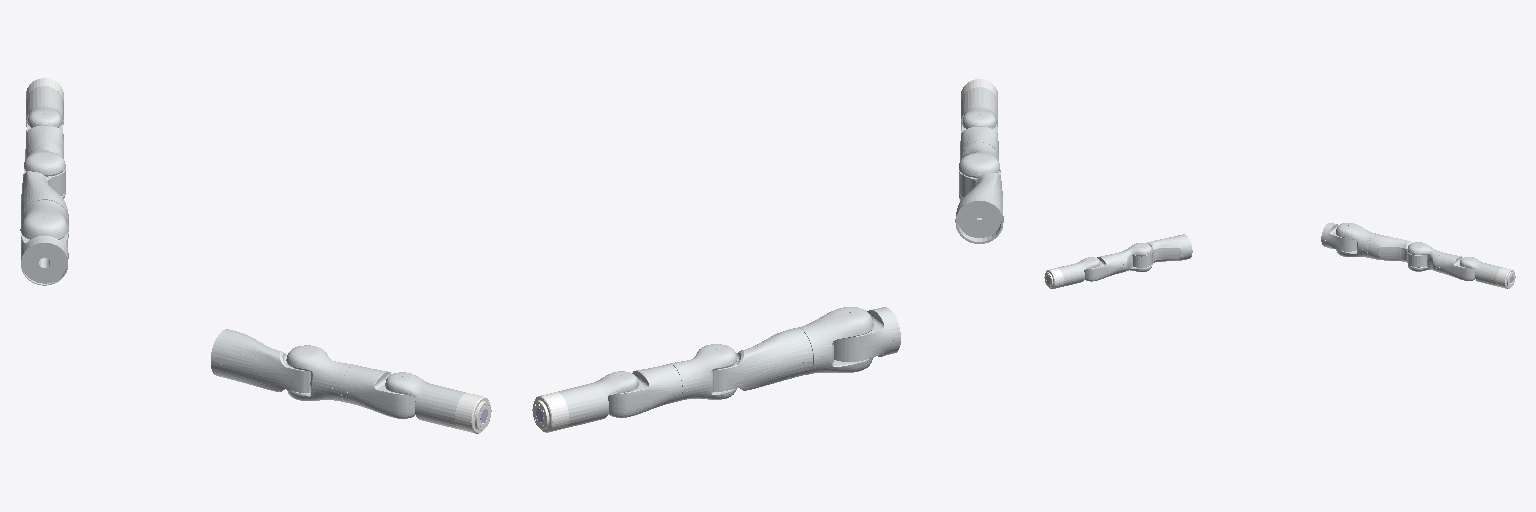
--- Facts derived from the render (not from the file) ---
The picture shows the robot from 3 angles, left to right: view 1: azimuth 30°, elevation 25°; view 2: azimuth 150°, elevation 25°; view 3: azimuth 270°, elevation 25°; orthographic projection.
Robot: qyh_dual_arms_description — 22 links, 21 joints (15 revolute, 6 fixed); root link base_link; default pose: every joint at zero.
Links seen in each view (by area): view 1: r3, r5, r6, r4, l1, l2, l6, l3, l4, r7, l5; view 2: l3, r3, l2, l5, l6, l4, l1, r6, r4, l7, r5; view 3: r3, l3, l2, r5, l5, l6, r6, l1, l4, r4.
Boxes of the visible links, x1,y1,x2,y2 form: r3: (211, 329, 310, 392); r5: (341, 365, 415, 418); r6: (385, 372, 465, 428); r4: (286, 345, 352, 402); l1: (21, 232, 68, 285); l2: (20, 200, 68, 239); l6: (26, 86, 63, 127); l3: (21, 168, 68, 218); l4: (24, 141, 65, 198); r7: (455, 393, 491, 433); l5: (25, 123, 63, 156); l3: (713, 328, 812, 391); r3: (955, 171, 1003, 243); l2: (798, 307, 873, 374); l5: (608, 364, 682, 417); l6: (558, 371, 638, 427); l4: (670, 344, 736, 400); l1: (833, 307, 900, 361); r6: (961, 87, 997, 128); r4: (959, 142, 1000, 200); l7: (532, 392, 568, 432); r5: (960, 124, 998, 155); r3: (1133, 234, 1192, 267); l3: (1367, 234, 1426, 267); l2: (1336, 223, 1375, 257); r5: (1084, 253, 1123, 281); l5: (1436, 253, 1475, 280); l6: (1460, 257, 1502, 286); r6: (1058, 257, 1099, 286); l1: (1321, 223, 1356, 251); l4: (1407, 242, 1442, 271); r4: (1118, 243, 1152, 272).
Bounding box of the posed robot: 0.5078 × 1.92 × 0.1293 m (x, y, z).
Meshes: 16 distinct files referenced, 14 mesh visuals loaded (14 binary STL); not drawn: 2 (reference not matched to a file when rendering).

URDF robot description (qyh_dual_arms_description):
<?xml version="1.0" encoding="utf-8"?>
<!-- This URDF was automatically created by SolidWorks to URDF Exporter! Originally created by Stephen Brawner ([email redacted]) 
     Commit Version: 1.6.0-4-g7f85cfe  Build Version: 1.6.7995.38578
     For more information, please see http://wiki.ros.org/sw_urdf_exporter -->
<robot
  name="qyh_dual_arms_description">
  <link
    name="base_link">
    <inertial>
      <origin
        xyz="-3.60060590956501E-06 -9.07607322631065E-15 0.203423267844838"
        rpy="0 0 0" />
      <mass
        value="6.05020988125157" />
      <inertia
        ixx="0.0476293935351954"
        ixy="-7.11699483719659E-16"
        ixz="4.71369585177237E-06"
        iyy="0.0220440369542326"
        iyz="-2.22463099675456E-13"
        izz="0.0350085747713705" />
    </inertial>
    <!-- Visual removed: base platform hidden in RViz -->
    <collision>
      <origin
        xyz="0 0 0"
        rpy="0 0 0" />
      <geometry>
        <mesh
          filename="package://qyh_dual_arms_description/meshes/base_link.STL" />
      </geometry>
    </collision>
  </link>
  
  <!-- Upper body virtual link for waist rotation -->
  <!-- This link is dynamically published by waist_tf_publisher node -->
  <!-- Rotation: pitch angle from 0° (upright) to 45° (max forward lean) -->
  <link name="upper_body_link">
    <inertial>
      <origin xyz="0 0 0" rpy="0 0 0" />
      <mass value="0.01" />
      <inertia ixx="0.001" ixy="0" ixz="0" iyy="0.001" iyz="0" izz="0.001" />
    </inertial>
  </link>
  
  <!-- Waist joint: connects base_link to upper_body_link -->
  <!-- This is a revolute joint for waist bending (pitch rotation around Y axis) -->
  <!-- Joint angle: 0 rad (upright) to -0.785 rad (45° forward lean) -->
  <!-- waist_control_node publishes joint_states, robot_state_publisher computes TF -->
  <joint name="waist_joint" type="revolute">
    <origin xyz="0 0 0.5" rpy="0 0 0" />
    <parent link="base_link" />
    <child link="upper_body_link" />
    <axis xyz="0 1 0" />
    <limit lower="-0.7854" upper="0.0" effort="100" velocity="1.0" />
  </joint>
  
  <!-- Calibration offset link for right arm -->
  <!-- Compensates for difference between URDF calculation and real robot -->
  <!-- Offset based on zero-position measurement: xyz=[-0.001080, 0.001050, 0.000951] -->
  <link name="base_link_right">
    <inertial>
      <origin xyz="0 0 0" rpy="0 0 0" />
      <mass value="0.001" />
      <inertia ixx="0.0001" ixy="0" ixz="0" iyy="0.0001" iyz="0" izz="0.0001" />
    </inertial>
  </link>
  
  <joint name="base_to_right" type="fixed">
    <origin xyz="-0.001080 -0.083950 0.000951" rpy="0 0 0.5236" />
    <parent link="upper_body_link" />
    <child link="base_link_right" />
  </joint>
  
  <link
    name="r1">
    <inertial>
      <origin
        xyz="2.46089328984067E-06 2.84970814695695E-07 0.164287024146416"
        rpy="0 0 0" />
      <mass
        value="1.49079078470913" />
      <inertia
        ixx="0.00305951889689243"
        ixy="1.23224145480846E-07"
        ixz="-4.72348068369075E-08"
        iyy="0.00378376232211108"
        iyz="3.76862388560309E-08"
        izz="0.00212531859055577" />
    </inertial>
    <visual>
      <origin
        xyz="0 0 0"
        rpy="0 0 0" />
      <geometry>
        <mesh
          filename="package://qyh_dual_arms_description/meshes/r1.STL" />
      </geometry>
      <material
        name="">
        <color
          rgba="0.898039215686275 0.917647058823529 0.929411764705882 1" />
      </material>
    </visual>
    <collision>
      <origin
        xyz="0 0 0"
        rpy="0 0 0" />
      <geometry>
        <mesh
          filename="package://qyh_dual_arms_description/meshes/r1.STL" />
      </geometry>
    </collision>
  </link>
  <joint
    name="r-j1"
    type="revolute">
    <origin
      xyz="0 -0.015 0.217"
      rpy="1.5708 0 0" />
    <parent
      link="base_link_right" />
    <child
      link="r1" />
    <axis
      xyz="0 0 1" />
    <limit
      lower="-6.2832"
      upper="6.2832"
      effort="0"
      velocity="0" />
  </joint>
  <link
    name="r2">
    <inertial>
      <origin
        xyz="1.7109375758606E-05 -0.0452985721312286 -0.000762955289207945"
        rpy="0 0 0" />
      <mass
        value="2.70256307184882" />
      <inertia
        ixx="0.00984922872707283"
        ixy="3.34424080739394E-06"
        ixz="1.12868365751484E-09"
        iyy="0.00588632047318303"
        iyz="9.35439174938388E-05"
        izz="0.00747853193882279" />
    </inertial>
    <visual>
      <origin
        xyz="0 0 0"
        rpy="0 0 0" />
      <geometry>
        <mesh
          filename="package://qyh_dual_arms_description/meshes/r2.STL" />
      </geometry>
      <material
        name="">
        <color
          rgba="0.898039215686275 0.917647058823529 0.929411764705882 1" />
      </material>
    </visual>
    <collision>
      <origin
        xyz="0 0 0"
        rpy="0 0 0" />
      <geometry>
        <mesh
          filename="package://qyh_dual_arms_description/meshes/r2.STL" />
      </geometry>
    </collision>
  </link>
  <joint
    name="r-j2"
    type="revolute">
    <origin
      xyz="0 0 0.2075"
      rpy="-1.5708 0 -3.1416" />
    <parent
      link="r1" />
    <child
      link="r2" />
    <axis
      xyz="0 0 1" />
    <limit
      lower="-1.8325"
      upper="1.8325"
      effort="0"
      velocity="0" />
  </joint>
  <link
    name="r3">
    <inertial>
      <origin
        xyz="0.00699744558788395 0.000445736588468609 0.236701004991554"
        rpy="0 0 0" />
      <mass
        value="3.547891513174" />
      <inertia
        ixx="0.0185299009082249"
        ixy="1.22460762225351E-06"
        ixz="-0.000124494465892274"
        iyy="0.018698885626507"
        iyz="1.6914180437995E-05"
        izz="0.00375500742709277" />
    </inertial>
    <visual>
      <origin
        xyz="0 0 0"
        rpy="0 0 0" />
      <geometry>
        <mesh
          filename="package://qyh_dual_arms_description/meshes/r3.STL" />
      </geometry>
      <material
        name="">
        <color
          rgba="0.898039215686275 0.917647058823529 0.929411764705882 1" />
      </material>
    </visual>
    <collision>
      <origin
        xyz="0 0 0"
        rpy="0 0 0" />
      <geometry>
        <mesh
          filename="package://qyh_dual_arms_description/meshes/r3.STL" />
      </geometry>
    </collision>
  </link>
  <joint
    name="r-j3"
    type="revolute">
    <origin
      xyz="0 0 0"
      rpy="1.5708 0 0" />
    <parent
      link="r2" />
    <child
      link="r3" />
    <axis
      xyz="0 0 1" />
    <limit
      lower="-6.2832"
      upper="6.2832"
      effort="0"
      velocity="0" />
  </joint>
  <link
    name="r4">
    <inertial>
      <origin
        xyz="0.00464518744522951 -0.0316040759638095 0.000428233746325696"
        rpy="0 0 0" />
      <mass
        value="1.47374197222549" />
      <inertia
        ixx="0.00379329175797327"
        ixy="0.000160244324462576"
        ixz="2.06773138034882E-07"
        iyy="0.00225584643512912"
        iyz="8.03226681108331E-06"
        izz="0.0028113434050461" />
    </inertial>
    <visual>
      <origin
        xyz="0 0 0"
        rpy="0 0 0" />
      <geometry>
        <mesh
          filename="package://qyh_dual_arms_description/meshes/r4.STL" />
      </geometry>
      <material
        name="">
        <color
          rgba="0.898039215686275 0.917647058823529 0.929411764705882 1" />
      </material>
    </visual>
    <collision>
      <origin
        xyz="0 0 0"
        rpy="0 0 0" />
      <geometry>
        <mesh
          filename="package://qyh_dual_arms_description/meshes/r4.STL" />
      </geometry>
    </collision>
  </link>
  <joint
    name="r-j4"
    type="revolute">
    <origin
      xyz="-0.00040027 0 0.33028"
      rpy="-1.5708 0 0" />
    <parent
      link="r3" />
    <child
      link="r4" />
    <axis
      xyz="0 0 1" />
    <limit
      lower="-2.5307"
      upper="0.5235"
      effort="0"
      velocity="0" />
  </joint>
  <link
    name="r5">
    <inertial>
      <origin
        xyz="-2.73577081399967E-06 0.00407883931490413 0.18352950691287"
        rpy="0 0 0" />
      <mass
        value="2.2808120066642" />
      <inertia
        ixx="0.00549240002759699"
        ixy="2.02933287530768E-07"
        ixz="1.9298965850965E-07"
        iyy="0.00557858764336011"
        iyz="-0.000384192244416796"
        izz="0.00195892105469372" />
    </inertial>
    <visual>
      <origin
        xyz="0 0 0"
        rpy="0 0 0" />
      <geometry>
        <mesh
          filename="package://qyh_dual_arms_description/meshes/r5.STL" />
      </geometry>
      <material
        name="">
        <color
          rgba="0.898039215686275 0.917647058823529 0.929411764705882 1" />
      </material>
    </visual>
    <collision>
      <origin
        xyz="0 0 0"
        rpy="0 0 0" />
      <geometry>
        <mesh
          filename="package://qyh_dual_arms_description/meshes/r5.STL" />
      </geometry>
    </collision>
  </link>
  <joint
    name="r-j5"
    type="revolute">
    <origin
      xyz="0 0 0"
      rpy="1.5708 0 0" />
    <parent
      link="r4" />
    <child
      link="r5" />
    <axis
      xyz="0 0 1" />
    <limit
      lower="-6.2832"
      upper="6.2832"
      effort="0"
      velocity="0" />
  </joint>
  <link
    name="r6">
    <inertial>
      <origin
        xyz="-1.87505921983577E-07 -0.0869630161566216 0.00554800902786426"
        rpy="0 0 0" />
      <mass
        value="1.76168294752758" />
      <inertia
        ixx="0.0044404179592646"
        ixy="2.44941748662153E-08"
        ixz="6.87068699085181E-09"
        iyy="0.00157714249117265"
        iyz="-0.000769691499834349"
        izz="0.00425162601625182" />
    </inertial>
    <visual>
      <origin
        xyz="0 0 0"
        rpy="0 0 0" />
      <geometry>
        <mesh
          filename="package://qyh_dual_arms_description/meshes/r6.STL" />
      </geometry>
      <material
        name="">
        <color
          rgba="0.898039215686275 0.917647058823529 0.929411764705882 1" />
      </material>
    </visual>
    <collision>
      <origin
        xyz="0 0 0"
        rpy="0 0 0" />
      <geometry>
        <mesh
          filename="package://qyh_dual_arms_description/meshes/r6.STL" />
      </geometry>
    </collision>
  </link>
  <joint
    name="r-j6"
    type="revolute">
    <origin
      xyz="0 0 0.23494"
      rpy="-1.5708 0 -3.1416" />
    <parent
      link="r5" />
    <child
      link="r6" />
    <axis
      xyz="0 0 1" />
    <limit
      lower="-1.8325"
      upper="1.8325"
      effort="0"
      velocity="0" />
  </joint>
  <link
    name="r7">
    <inertial>
      <origin
        xyz="2.69436565863979E-07 -3.3825238780566E-05 0.176217274971408"
        rpy="0 0 0" />
      <mass
        value="0.634983447813082" />
      <inertia
        ixx="0.000369700889597726"
        ixy="1.22320766369589E-19"
        ixz="4.05163027480798E-17"
        iyy="0.000370207334392979"
        iyz="4.30165001831772E-07"
        izz="0.000512144745921585" />
    </inertial>
    <visual>
      <origin
        xyz="0 0 0"
        rpy="0 0 0" />
      <geometry>
        <mesh
          filename="package://qyh_dual_arms_description/meshes/r7.STL" />
      </geometry>
      <material
        name="">
        <color
          rgba="1 1 1 1" />
      </material>
    </visual>
    <collision>
      <origin
        xyz="0 0 0"
        rpy="0 0 0" />
      <geometry>
        <mesh
          filename="package://qyh_dual_arms_description/meshes/r7.STL" />
      </geometry>
    </collision>
  </link>
  <joint
    name="r-j7"
    type="revolute">
    <origin
      xyz="0 0 0"
      rpy="1.5708 0 0" />
    <parent
      link="r6" />
    <child
      link="r7" />
    <axis
      xyz="0 0 1" />
    <limit
      lower="-6.2832"
      upper="6.2832"
      effort="0"
      velocity="0" />
  </joint>
  <link
    name="rt">
    <inertial>
      <origin
        xyz="-3.05311331771918E-16 -2.27071697556092E-09 -0.000999999999997891"
        rpy="0 0 0" />
      <mass
        value="0.00155862265526229" />
      <inertia
        ixx="9.71784989903379E-08"
        ixy="6.21107762007834E-26"
        ixz="2.73552603418801E-20"
        iyy="9.71784989908336E-08"
        iyz="2.18305404592163E-13"
        izz="1.93317916210005E-07" />
    </inertial>
    <visual>
      <origin
        xyz="0 0 0"
        rpy="0 0 0" />
      <geometry>
        <mesh
          filename="package://qyh_dual_arms_description/meshes/rt.STL" />
      </geometry>
      <material
        name="">
        <color
          rgba="0.792156862745098 0.819607843137255 0.933333333333333 1" />
      </material>
    </visual>
    <collision>
      <origin
        xyz="0 0 0"
        rpy="0 0 0" />
      <geometry>
        <mesh
          filename="package://qyh_dual_arms_description/meshes/rt.STL" />
      </geometry>
    </collision>
  </link>
  <joint
    name="r-t"
    type="fixed">
    <origin
      xyz="0 0 0.20277"
      rpy="0 0 0" />
    <parent
      link="r7" />
    <child
      link="rt" />
    <axis
      xyz="0 0 0" />
  </joint>
  
  <!-- Forward-aligned coordinate frame for right end-effector -->
  <!-- Rotates rt frame so that X-axis points forward (aligned with VR) instead of left -->
  <link name="forward_rt">
    <inertial>
      <origin xyz="0 0 0" rpy="0 0 0" />
      <mass value="0.001" />
      <inertia ixx="0.0001" ixy="0" ixz="0" iyy="0.0001" iyz="0" izz="0.0001" />
    </inertial>
  </link>
  
  <joint name="rt_to_forward" type="fixed">
    <origin xyz="0 0 0" rpy="0 -1.5708 -1.5708" />
    <parent link="rt" />
    <child link="forward_rt" />
  </joint>
  
  <!-- Calibration offset link for left arm -->
  <!-- Compensates for difference between URDF calculation and real robot -->
  <!-- Offset based on zero-position measurement: xyz=[-0.0004, 0.0022, 0.0030] -->
  <link name="base_link_left">
    <inertial>
      <origin xyz="0 0 0" rpy="0 0 0" />
      <mass value="0.001" />
      <inertia ixx="0.0001" ixy="0" ixz="0" iyy="0.0001" iyz="0" izz="0.0001" />
    </inertial>
  </link>
  
  <joint name="base_to_left" type="fixed">
    <origin xyz="-0.0004 0.08522 0.0030" rpy="0 0 -0.5236" />
    <parent link="upper_body_link" />
    <child link="base_link_left" />
  </joint>
  
  <link
    name="l1">
    <inertial>
      <origin
        xyz="-2.46089331418231E-06 -2.84970793879014E-07 0.164287024147332"
        rpy="0 0 0" />
      <mass
        value="1.49079078470914" />
      <inertia
        ixx="0.00305951889689243"
        ixy="1.23224145473473E-07"
        ixz="4.72348068206694E-08"
        iyy="0.00378376232211108"
        iyz="-3.7686238848057E-08"
        izz="0.00212531859055579" />
    </inertial>
    <visual>
      <origin
        xyz="0 0 0"
        rpy="0 0 0" />
      <geometry>
        <mesh
          filename="package://qyh_dual_arms_description/meshes/l1.STL" />
      </geometry>
      <material
        name="">
        <color
          rgba="0.898039215686275 0.917647058823529 0.929411764705882 1" />
      </material>
    </visual>
    <collision>
      <origin
        xyz="0 0 0"
        rpy="0 0 0" />
      <geometry>
        <mesh
          filename="package://qyh_dual_arms_description/meshes/l1.STL" />
      </geometry>
    </collision>
  </link>
  <joint
    name="l-j1"
    type="revolute">
    <origin
      xyz="0 0.015 0.217"
      rpy="1.5708 0 -3.1416" />
    <parent
      link="base_link_left" />
    <child
      link="l1" />
    <axis
      xyz="0 0 1" />
    <limit
      lower="-6.2832"
      upper="6.2832"
      effort="0"
      velocity="0" />
  </joint>
  <link
    name="l2">
    <inertial>
      <origin
        xyz="1.71098440110429E-05 -0.0452985718642395 -0.000764631078333716"
        rpy="0 0 0" />
      <mass
        value="2.70256303290927" />
      <inertia
        ixx="0.00984922869542085"
        ixy="3.34426654175541E-06"
        ixz="1.15726850658801E-09"
        iyy="0.00588632041233304"
        iyz="9.35439353884379E-05"
        izz="0.00747853188064802" />
    </inertial>
    <visual>
      <origin
        xyz="0 0 0"
        rpy="0 0 0" />
      <geometry>
        <mesh
          filename="package://qyh_dual_arms_description/meshes/l2.STL" />
      </geometry>
      <material
        name="">
        <color
          rgba="0.898039215686275 0.917647058823529 0.929411764705882 1" />
      </material>
    </visual>
    <collision>
      <origin
        xyz="0 0 0"
        rpy="0 0 0" />
      <geometry>
        <mesh
          filename="package://qyh_dual_arms_description/meshes/l2.STL" />
      </geometry>
    </collision>
  </link>
  <joint
    name="l-j2"
    type="revolute">
    <origin
      xyz="0 0 0.2075"
      rpy="-1.5708 0 0" />
    <parent
      link="l1" />
    <child
      link="l2" />
    <axis
      xyz="0 0 1" />
    <limit
      lower="-1.8325"
      upper="1.8325"
      effort="0"
      velocity="0" />
  </joint>
  <link
    name="l3">
    <inertial>
      <origin
        xyz="0.0069974455887013 0.000444597979282146 0.236701003978499"
        rpy="0 0 0" />
      <mass
        value="3.5478915129612" />
      <inertia
        ixx="0.0185299009078814"
        ixy="1.2243247722483E-06"
        ixz="-0.000124494468881493"
        iyy="0.0186988857028074"
        iyz="1.68802473177751E-05"
        izz="0.00375500735022196" />
    </inertial>
    <visual>
      <origin
        xyz="0 0 0"
        rpy="0 0 0" />
      <geometry>
        <mesh
          filename="package://qyh_dual_arms_description/meshes/l3.STL" />
      </geometry>
      <material
        name="">
        <color
          rgba="0.898039215686275 0.917647058823529 0.929411764705882 1" />
      </material>
    </visual>
    <collision>
      <origin
        xyz="0 0 0"
        rpy="0 0 0" />
      <geometry>
        <mesh
          filename="package://qyh_dual_arms_description/meshes/l3.STL" />
      </geometry>
    </collision>
  </link>
  <joint
    name="l-j3"
    type="revolute">
    <origin
      xyz="0 0 0"
      rpy="1.5708 0 0" />
    <parent
      link="l2" />
    <child
      link="l3" />
    <axis
      xyz="0 0 1" />
    <limit
      lower="-6.2832"
      upper="6.2832"
      effort="0"
      velocity="0" />
  </joint>
  <link
    name="l4">
    <inertial>
      <origin
        xyz="0.00464517168404846 -0.0316039244504552 0.000428108541729089"
        rpy="0 0 0" />
      <mass
        value="1.47374332570796" />
      <inertia
        ixx="0.00379329619429672"
        ixy="0.000160244833022134"
        ixz="2.06309401483008E-07"
        iyy="0.00225584956891396"
        iyz="8.03305877483301E-06"
        izz="0.00281134670019242" />
    </inertial>
    <visual>
      <origin
        xyz="0 0 0"
        rpy="0 0 0" />
      <geometry>
        <mesh
          filename="package://qyh_dual_arms_description/meshes/l4.STL" />
      </geometry>
      <material
        name="">
        <color
          rgba="0.898039215686275 0.917647058823529 0.929411764705882 1" />
      </material>
    </visual>
    <collision>
      <origin
        xyz="0 0 0"
        rpy="0 0 0" />
      <geometry>
        <mesh
          filename="package://qyh_dual_arms_description/meshes/l4.STL" />
      </geometry>
    </collision>
  </link>
  <joint
    name="l-j4"
    type="revolute">
    <origin
      xyz="-0.00040027 0 0.33028"
      rpy="-1.5708 0 0" />
    <parent
      link="l3" />
    <child
      link="l4" />
    <axis
      xyz="0 0 1" />
    <limit
      lower="-2.5307"
      upper="0.5235"
      effort="0"
      velocity="0" />
  </joint>
  <link
    name="l5">
    <inertial>
      <origin
        xyz="2.28034625399109E-06 -0.00407998405797616 0.183530039277751"
        rpy="0 0 0" />
      <mass
        value="2.28087734068919" />
      <inertia
        ixx="0.00549251858008177"
        ixy="1.60020672701341E-07"
        ixz="-1.71185165045815E-07"
        iyy="0.00557865460525819"
        iyz="0.000384258677887826"
        izz="0.00195901321366414" />
    </inertial>
    <visual>
      <origin
        xyz="0 0 0"
        rpy="0 0 0" />
      <geometry>
        <mesh
          filename="package://qyh_dual_arms_description/meshes/l5.STL" />
      </geometry>
      <material
        name="">
        <color
          rgba="0.898039215686275 0.917647058823529 0.929411764705882 1" />
      </material>
    </visual>
    <collision>
      <origin
        xyz="0 0 0"
        rpy="0 0 0" />
      <geometry>
        <mesh
          filename="package://qyh_dual_arms_description/meshes/l5.STL" />
      </geometry>
    </collision>
  </link>
  <joint
    name="l-j5"
    type="revolute">
    <origin
      xyz="0 0 0"
      rpy="1.5708 0 0" />
    <parent
      link="l4" />
    <child
      link="l5" />
    <axis
      xyz="0 0 1" />
    <limit
      lower="-6.2832"
      upper="6.2832"
      effort="0"
      velocity="0" />
  </joint>
  <link
    name="l6">
    <inertial>
      <origin
        xyz="-1.87505555082623E-07 -0.0869630161581292 0.00555105942509737"
        rpy="0 0 0" />
      <mass
        value="1.76168294749257" />
      <inertia
        ixx="0.00444041795905793"
        ixy="2.44941275378522E-08"
        ixz="6.87068412016391E-09"
        iyy="0.00157714249113809"
        iyz="-0.00076969149979967"
        izz="0.00425162601598907" />
    </inertial>
    <visual>
      <origin
        xyz="0 0 0"
        rpy="0 0 0" />
      <geometry>
        <mesh
          filename="package://qyh_dual_arms_description/meshes/l6.STL" />
      </geometry>
      <material
        name="">
        <color
          rgba="0.898039215686275 0.917647058823529 0.929411764705882 1" />
      </material>
    </visual>
    <collision>
      <origin
        xyz="0 0 0"
        rpy="0 0 0" />
      <geometry>
        <mesh
          filename="package://qyh_dual_arms_description/meshes/l6.STL" />
      </geometry>
    </collision>
  </link>
  <joint
    name="l-j6"
    type="revolute">
    <origin
      xyz="0 0 0.23494"
      rpy="-1.5708 0 0" />
    <parent
      link="l5" />
    <child
      link="l6" />
    <axis
      xyz="0 0 1" />
    <limit
      lower="-1.8325"
      upper="1.8325"
      effort="0"
      velocity="0" />
  </joint>
  <link
    name="l7">
    <inertial>
      <origin
        xyz="2.69436515681898E-07 -3.11749811092998E-05 0.176217274894147"
        rpy="0 0 0" />
      <mass
        value="0.63498344781308" />
      <inertia
        ixx="0.000369700889597725"
        ixy="3.08682840219382E-20"
        ixz="1.68985975866363E-20"
        iyy="0.000370207332440143"
        iyz="4.2984270214059E-07"
        izz="0.000512144747874417" />
    </inertial>
    <visual>
      <origin
        xyz="0 0 0"
        rpy="0 0 0" />
      <geometry>
        <mesh
          filename="package://qyh_dual_arms_description/meshes/l7.STL" />
      </geometry>
      <material
        name="">
        <color
          rgba="1 1 1 1" />
      </material>
    </visual>
    <collision>
      <origin
        xyz="0 0 0"
        rpy="0 0 0" />
      <geometry>
        <mesh
          filename="package://qyh_dual_arms_description/meshes/l7.STL" />
      </geometry>
    </collision>
  </link>
  <joint
    name="l-j7"
    type="revolute">
    <origin
      xyz="0 0 0"
      rpy="1.5708 0 0" />
    <parent
      link="l6" />
    <child
      link="l7" />
    <axis
      xyz="0 0 1" />
    <limit
      lower="-6.2832"
      upper="6.2832"
      effort="0"
      velocity="0" />
  </joint>
  <link
    name="lt">
    <inertial>
      <origin
        xyz="-2.77555756156289E-17 0 -0.001"
        rpy="0 0 0" />
      <mass
        value="0.0015586226552622" />
      <inertia
        ixx="9.71784989903325E-08"
        ixy="-5.48533487843285E-30"
        ixz="4.26048794368033E-24"
        iyy="9.71784989903324E-08"
        iyz="2.37031749873271E-23"
        izz="1.9331791621049E-07" />
    </inertial>
    <visual>
      <origin
        xyz="0 0 0"
        rpy="0 0 0" />
      <geometry>
        <mesh
          filename="package://qyh_dual_arms_description/meshes/lt.STL" />
      </geometry>
      <material
        name="">
        <color
          rgba="0.792156862745098 0.819607843137255 0.933333333333333 1" />
      </material>
    </visual>
    <collision>
      <origin
        xyz="0 0 0"
        rpy="0 0 0" />
      <geometry>
        <mesh
          filename="package://qyh_dual_arms_description/meshes/lt.STL" />
      </geometry>
    </collision>
  </link>
  <joint
    name="l-t"
    type="fixed">
    <origin
      xyz="0 0 0.202771979800599"
      rpy="0 0 0" />
    <parent
      link="l7" />
    <child
      link="lt" />
    <axis
      xyz="0 0 0" />
  </joint>
  
  <!-- Forward-aligned coordinate frame for left end-effector -->
  <!-- Rotates lt frame so that X-axis points forward (aligned with VR) instead of left -->
  <link name="forward_lt">
    <inertial>
      <origin xyz="0 0 0" rpy="0 0 0" />
      <mass value="0.001" />
      <inertia ixx="0.0001" ixy="0" ixz="0" iyy="0.0001" iyz="0" izz="0.0001" />
    </inertial>
  </link>
  
  <joint name="lt_to_forward" type="fixed">
    <origin xyz="0 0 0" rpy="0 -1.5708 -1.5708" />
    <parent link="lt" />
    <child link="forward_lt" />
  </joint>
  
  <!-- VR coordinate frame for teleoperation -->
  <!-- This frame is aligned with VR controller convention: -->
  <!-- X: Right, Y: Up, Z: Backward (relative to base_link viewing direction) -->
  <!-- Transformation verified: VR_X(right)=base_link_-Y, VR_Y(up)=base_link_Z, VR_Z(back)=base_link_-X -->
  <!-- <link name="base_vr">
    <inertial>
      <origin xyz="0 0 0" rpy="0 0 0" />
      <mass value="0.001" />
      <inertia ixx="0.0001" ixy="0" ixz="0" iyy="0.0001" iyz="0" izz="0.0001" />
    </inertial>
  </link>
  
  <joint name="base_to_vr" type="fixed">
    <origin xyz="0 0 0" rpy="1.5708 0 -1.5708" />
    <parent link="base_link" />
    <child link="base_vr" />
  </joint> -->
</robot>
